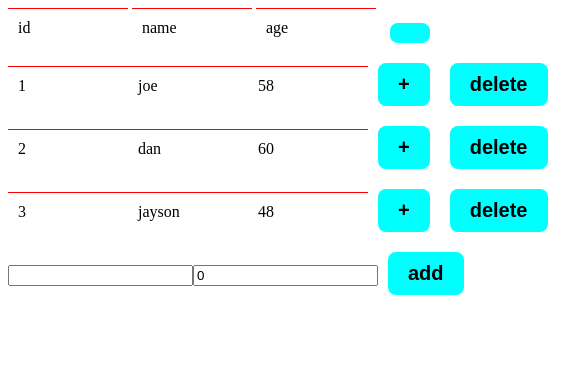
sets name selected
Click the list item with test id "item-2" at (278, 148), box [8, 126, 548, 169]
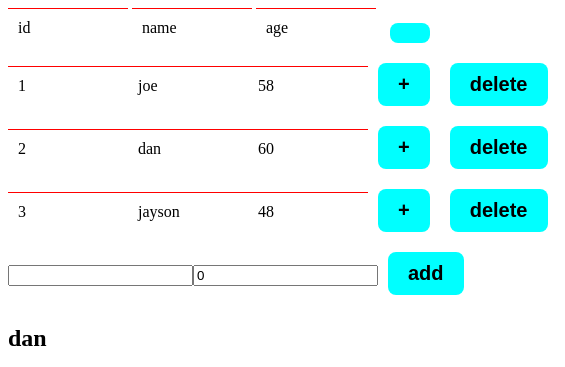
Result: the heading with test id "person" reads "dan" at [8, 325, 47, 351]
